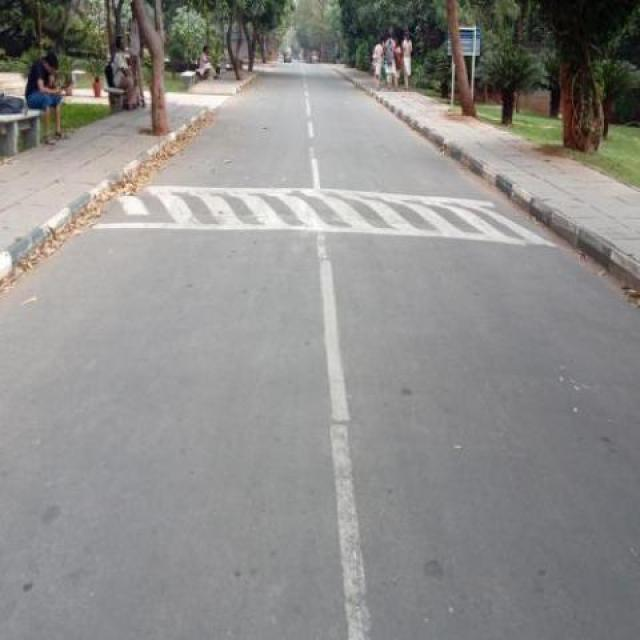Speed Bump: (94, 182, 554, 244)
